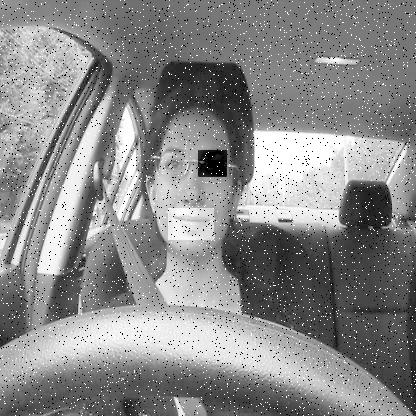seatbelt: (134, 72, 260, 416)
